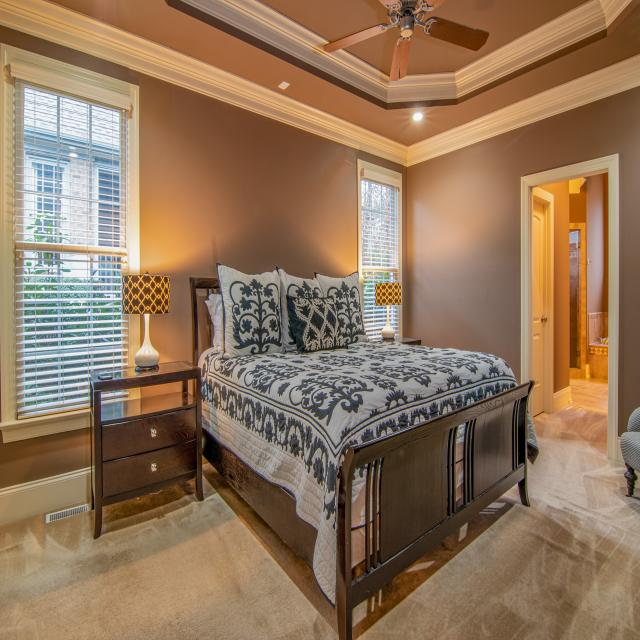floor: (351, 377, 640, 640), (0, 462, 339, 640)
wall: (0, 25, 408, 365), (407, 86, 640, 437), (538, 180, 570, 394), (0, 427, 91, 489), (0, 474, 92, 524), (583, 173, 605, 364), (569, 180, 588, 379), (569, 243, 578, 367), (588, 345, 608, 380), (141, 381, 182, 398), (604, 172, 608, 338), (188, 379, 193, 395)
